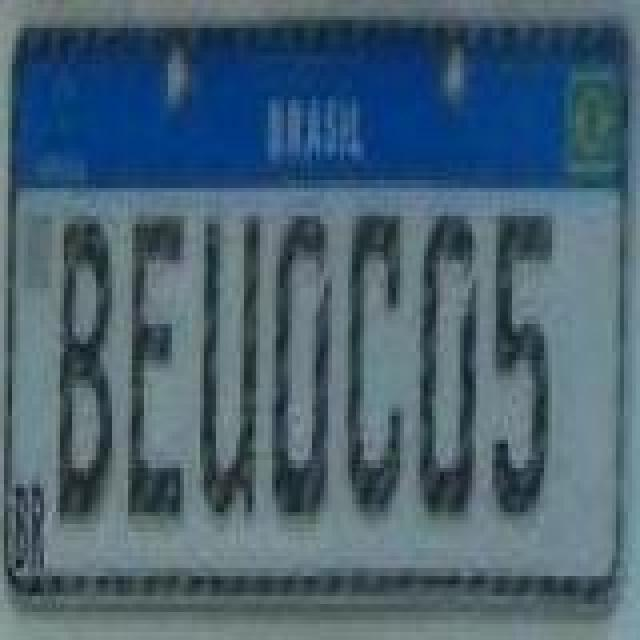5: (490, 208, 558, 528)
B: (58, 210, 118, 526)
C: (344, 206, 408, 522)
D: (416, 206, 480, 530), (272, 210, 336, 526)
E: (126, 210, 186, 526)
U: (202, 210, 262, 526)
